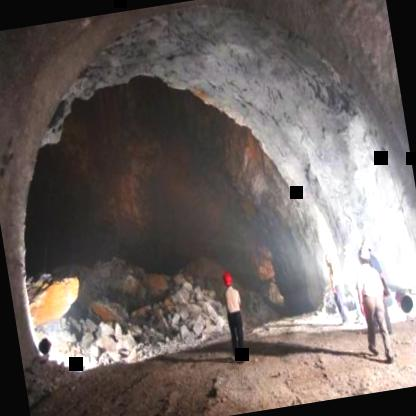helmet: (220, 268, 236, 293), (356, 245, 370, 269)
